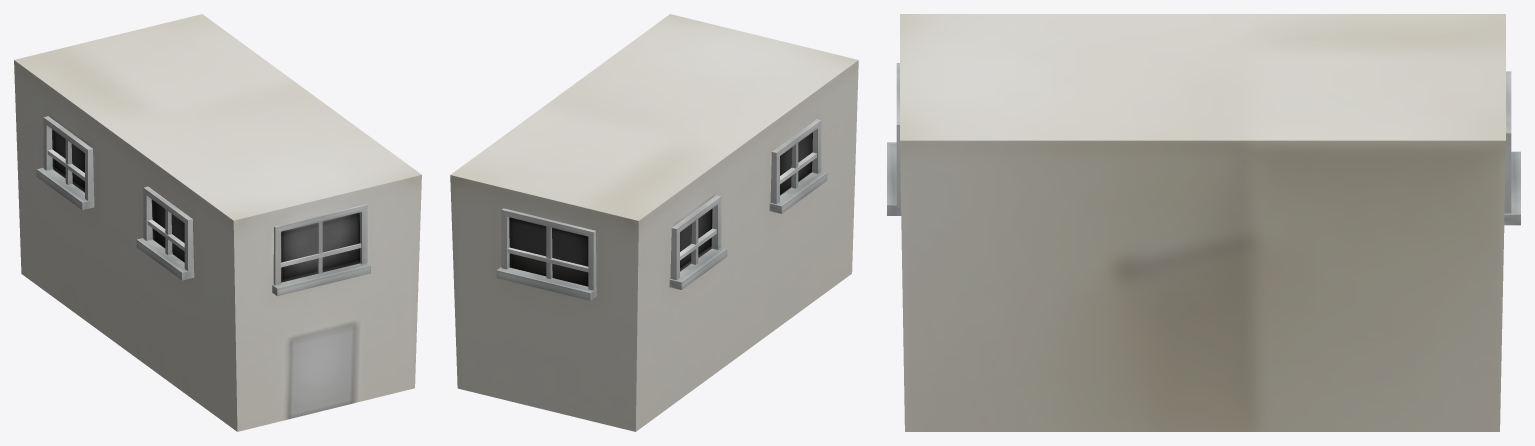
Rendered from B11Broke05.FBX.
3 renders of one model, left to right at view 1: azimuth 30°, elevation 25°; view 2: azimuth 150°, elevation 25°; view 3: azimuth 270°, elevation 25°, orthographic. The views are drawn at different scales.
Parts seen in each view (by area): view 1: B11Broke05; view 2: B11Broke05; view 3: B11Broke05.
Boxes of the visible parts, x1,y1,x2,y2 form: B11Broke05: (14, 14, 421, 431); B11Broke05: (450, 14, 858, 431); B11Broke05: (887, 14, 1520, 431).
Bounding box in the file's own units: 37.03 × 38.1 × 74.26.
